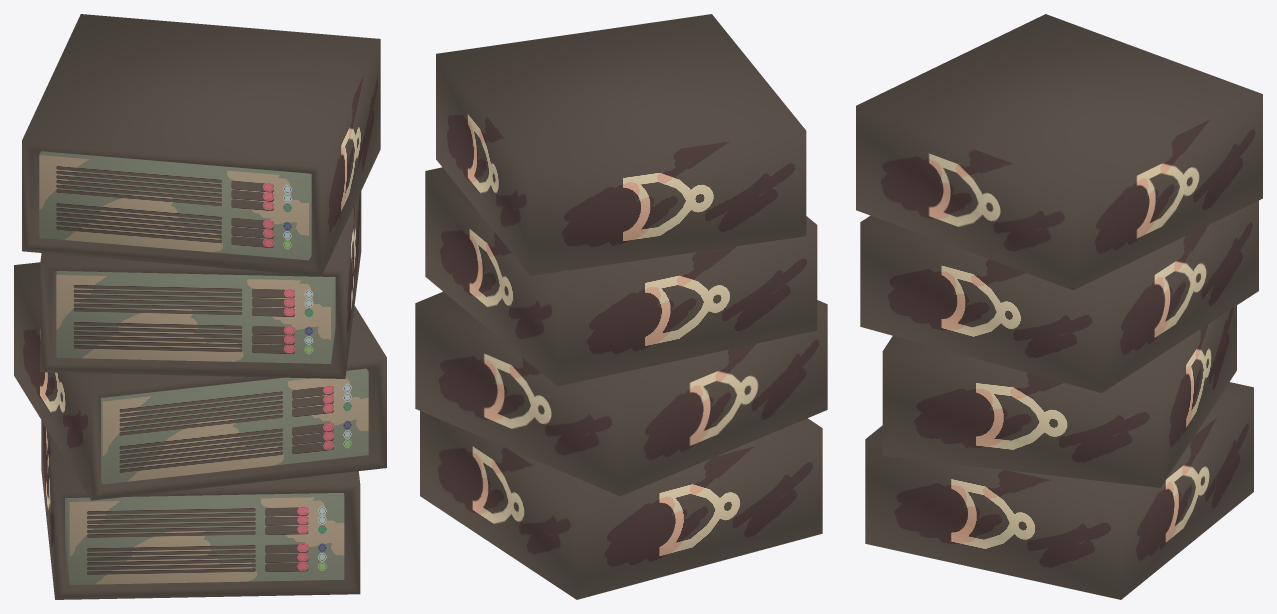
Rendered from nor_gate.glb.
3 renders of one model, left to right at view 1: azimuth 30°, elevation 25°; view 2: azimuth 150°, elevation 25°; view 3: azimuth 270°, elevation 25°, orthographic. The views are drawn at different scales.
Visible parts, largest first — view 1: logic_gate; view 2: logic_gate; view 3: logic_gate.
Part boxes in pixels (x1,y1,x2,y2): logic_gate: (14, 14, 386, 599); logic_gate: (415, 14, 827, 599); logic_gate: (856, 14, 1262, 599).
Size of the model in its own units: 1.41 by 1.6 by 1.41.
1 material, 1 textured.
